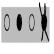correct: (16, 13, 23, 32)
not correct: (39, 1, 49, 44)
